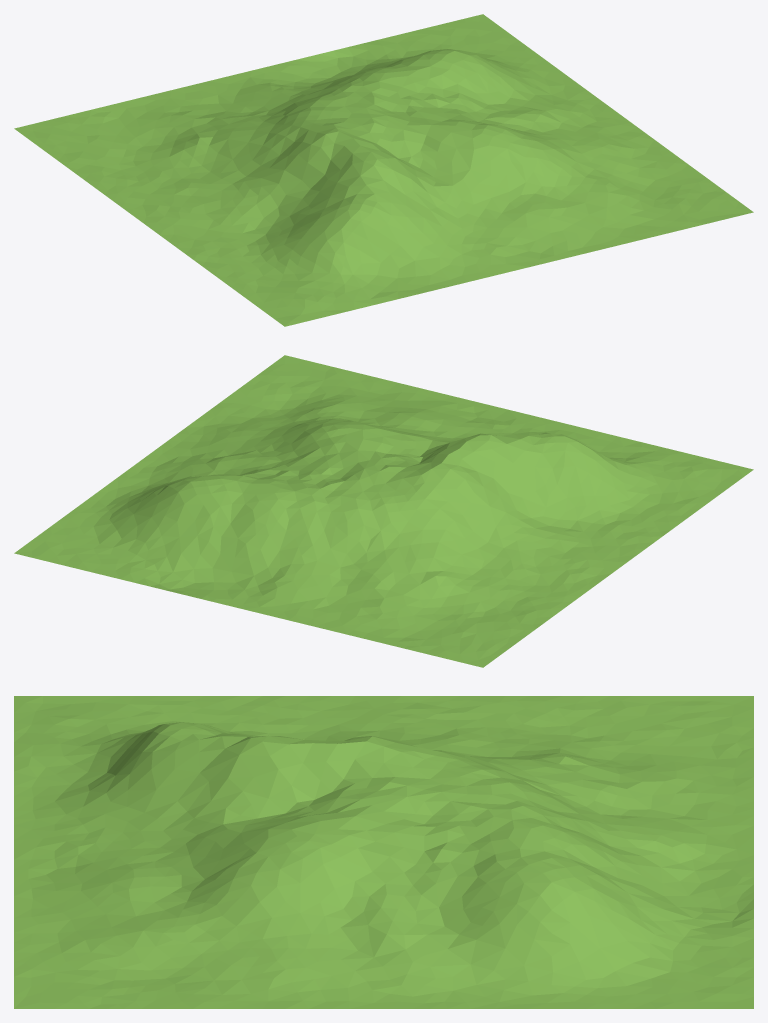
File: MT_Terrain_L_a_25.fbx
3 renders of one model, top to bottom at view 1: azimuth 30°, elevation 25°; view 2: azimuth 150°, elevation 25°; view 3: azimuth 270°, elevation 25°, orthographic. The views are drawn at different scales.
Parts seen in each view (by area): view 1: MT_Terrain_L_a_25; view 2: MT_Terrain_L_a_25; view 3: MT_Terrain_L_a_25.
Boxes of the visible parts, left/top/right/bottom form: MT_Terrain_L_a_25: left=14, top=14, right=753, bottom=326; MT_Terrain_L_a_25: left=14, top=355, right=753, bottom=667; MT_Terrain_L_a_25: left=14, top=696, right=753, bottom=1008.
Bounding box in the file's own units: 10000 × 1237 × 10000.
